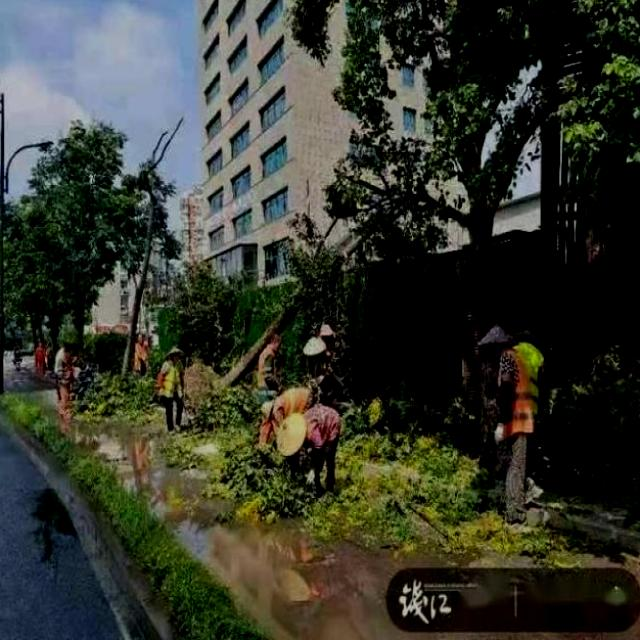fallen_object: (204, 144, 441, 394)
